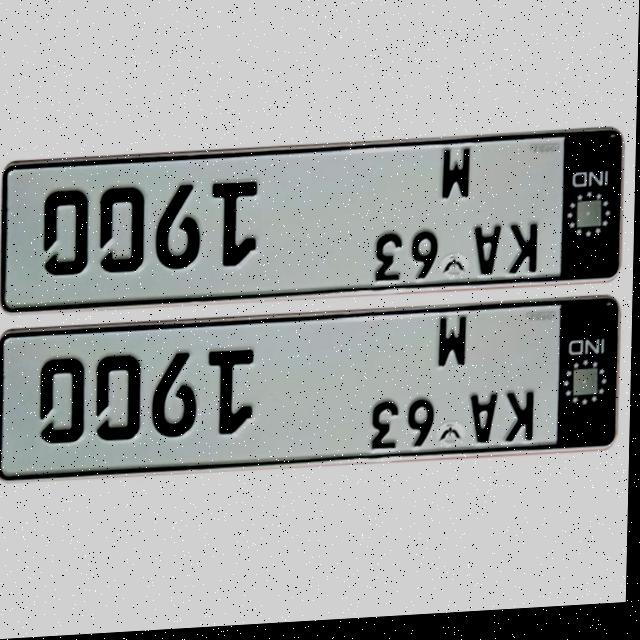plate: (0, 300, 622, 486), (1, 134, 625, 317)
